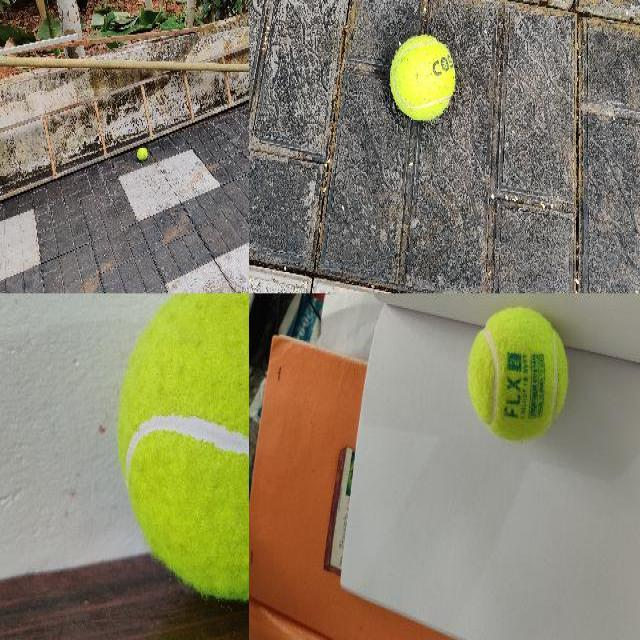tennis-ball: (117, 293, 248, 603), (467, 307, 567, 441), (389, 33, 455, 119), (137, 147, 148, 161)
